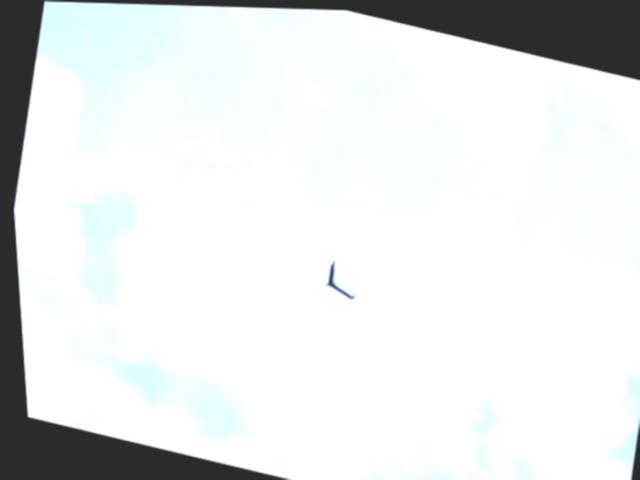flying wing: (317, 255, 359, 301)
